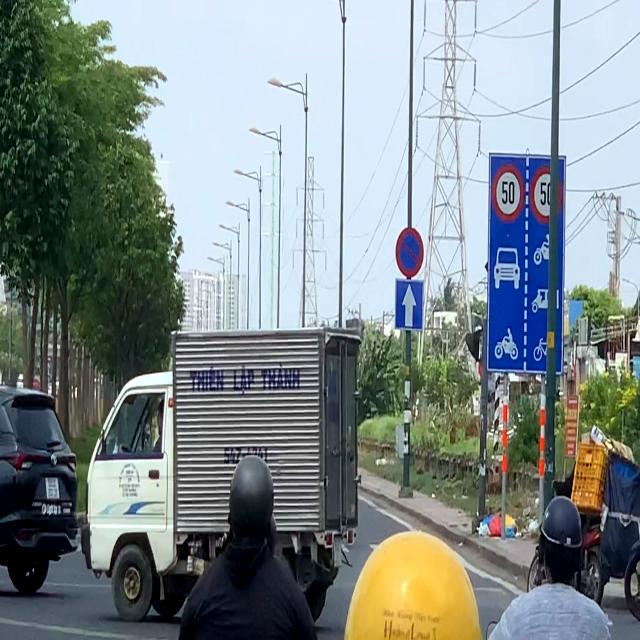Cam do xe: (395, 226, 424, 278)
Duong mot chieu: (395, 278, 423, 332)
Toc do toi da cho phep: (491, 162, 525, 222), (530, 164, 563, 224)
